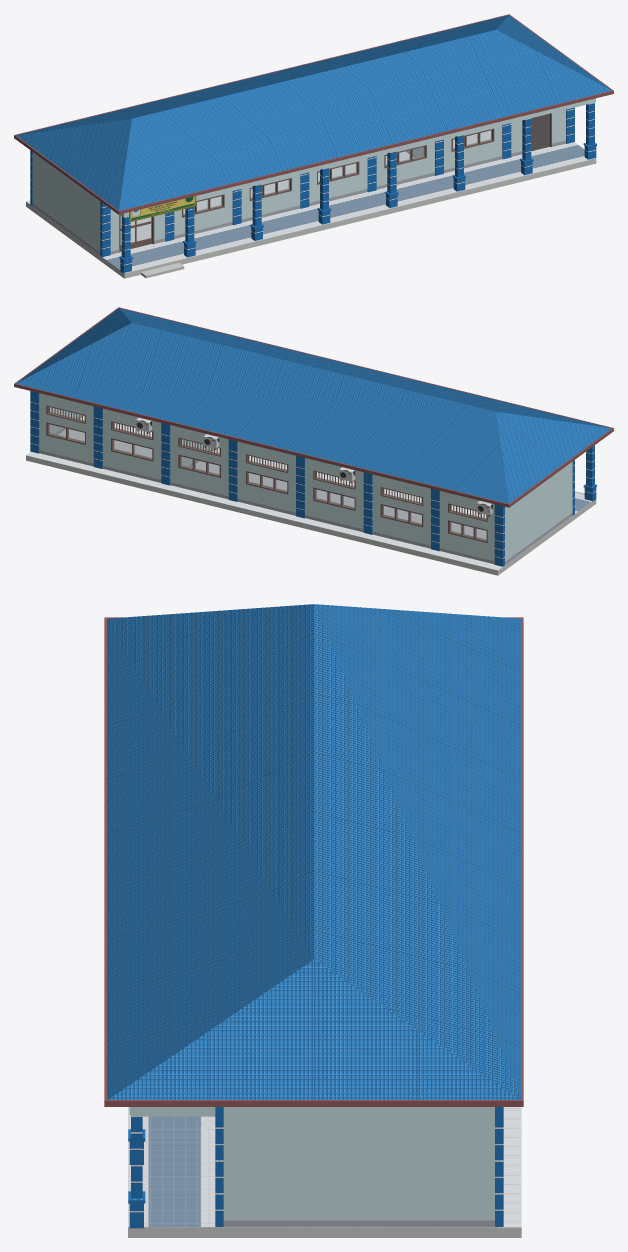
Rendered from gedung_perpustakaan.glb.
3 views of the same model, one above another, from view 1: azimuth 30°, elevation 25°; view 2: azimuth 150°, elevation 25°; view 3: azimuth 270°, elevation 25° (orthographic). The views are drawn at different scales.
Visible parts, largest first — view 1: Atap_Genteng_Biru, Dinding_BiruLangit_Pucat, Lantai_Teras_Jalur_BiruAbu, Pilaster_Dan_Tiang_Biru, Lisplang_Marun_Atap, Apron_Beton_Perpustakaan, Kusen_Jendela_Dan_Pintu, Kaca_Jendela_Transparan, Lantai_2_Ruangan_Kosong, Plint_Dinding_Abu, Papan_Nama_PERPUSTAKAAN, Daun_Pintu_Ruang_2; view 2: Atap_Genteng_Biru, Dinding_BiruLangit_Pucat, Pilaster_Dan_Tiang_Biru, Kusen_Jendela_Dan_Pintu, Lisplang_Marun_Atap, Apron_Beton_Perpustakaan, Ledge_Keramik_Putih_Belakang, Lantai_2_Ruangan_Kosong, Kaca_Jendela_Transparan, Plint_Dinding_Abu, Unit_AC_Outdoor_Belakang; view 3: Atap_Genteng_Biru, Dinding_BiruLangit_Pucat, Lantai_Teras_Jalur_BiruAbu, Lisplang_Marun_Atap, Apron_Beton_Perpustakaan, Pilaster_Dan_Tiang_Biru, Ledge_Keramik_Putih_Belakang, Plint_Dinding_Abu.
Part boxes in pixels (<box>): Atap_Genteng_Biru: <box>16,15,611,210</box>; Dinding_BiruLangit_Pucat: <box>32,98,595,251</box>; Lantai_Teras_Jalur_BiruAbu: <box>101,142,596,273</box>; Pilaster_Dan_Tiang_Biru: <box>30,102,596,273</box>; Lisplang_Marun_Atap: <box>14,14,613,214</box>; Apron_Beton_Perpustakaan: <box>26,159,596,278</box>; Kusen_Jendela_Dan_Pintu: <box>119,113,551,252</box>; Kaca_Jendela_Transparan: <box>120,130,491,245</box>; Lantai_2_Ruangan_Kosong: <box>32,130,490,256</box>; Plint_Dinding_Abu: <box>32,140,565,254</box>; Papan_Nama_PERPUSTAKAAN: <box>129,196,196,222</box>; Daun_Pintu_Ruang_2: <box>531,113,549,151</box>; Atap_Genteng_Biru: <box>16,308,611,503</box>; Dinding_BiruLangit_Pucat: <box>39,393,572,561</box>; Pilaster_Dan_Tiang_Biru: <box>30,391,596,566</box>; Kusen_Jendela_Dan_Pintu: <box>46,405,491,542</box>; Lisplang_Marun_Atap: <box>14,307,613,507</box>; Apron_Beton_Perpustakaan: <box>26,456,596,575</box>; Ledge_Keramik_Putih_Belakang: <box>26,452,503,570</box>; Lantai_2_Ruangan_Kosong: <box>58,416,572,566</box>; Kaca_Jendela_Transparan: <box>48,424,486,540</box>; Plint_Dinding_Abu: <box>39,414,572,564</box>; Unit_AC_Outdoor_Belakang: <box>135,417,492,515</box>; Atap_Genteng_Biru: <box>107,604,520,1099</box>; Dinding_BiruLangit_Pucat: <box>129,1107,494,1219</box>; Lantai_Teras_Jalur_BiruAbu: <box>128,1107,221,1228</box>; Lisplang_Marun_Atap: <box>104,617,523,1106</box>; Apron_Beton_Perpustakaan: <box>128,1228,521,1237</box>; Pilaster_Dan_Tiang_Biru: <box>128,1107,503,1228</box>; Ledge_Keramik_Putih_Belakang: <box>497,1107,521,1228</box>; Plint_Dinding_Abu: <box>223,1220,494,1226</box>.
Bounding box in the file's own units: 25.72 × 5.6 × 9.42.
Materials: 14 (7 with a texture image).
